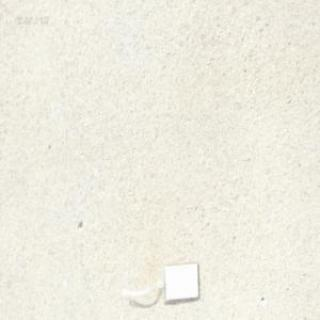LuggageTagtrack_idkeyframe: (114, 258, 196, 303)
